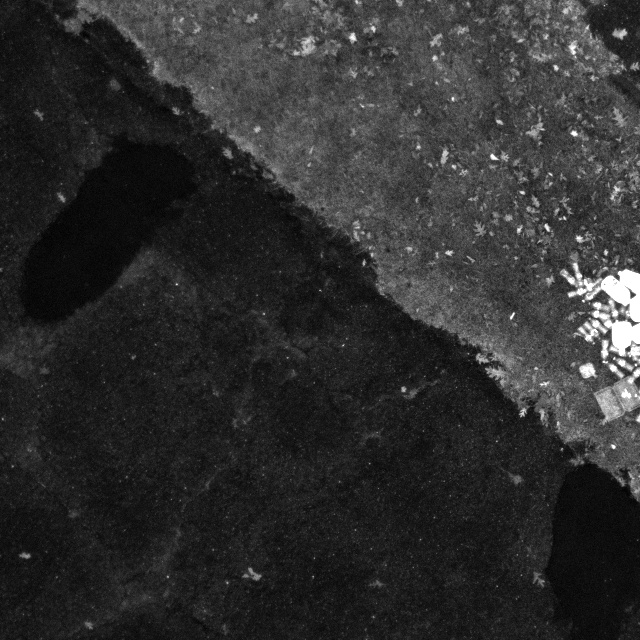bottle: (557, 265, 580, 290), (585, 315, 610, 336), (580, 284, 603, 305), (581, 274, 605, 294), (576, 323, 596, 347), (582, 320, 601, 343), (584, 308, 613, 321), (565, 285, 591, 299), (571, 261, 584, 286), (586, 300, 611, 313), (574, 276, 595, 289)
container: (577, 360, 597, 380)
